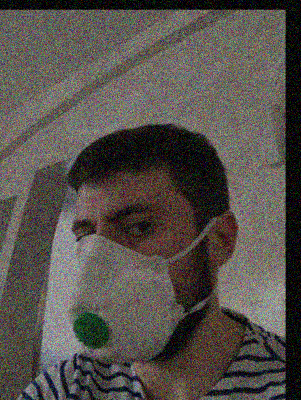with_mask: (64, 189, 196, 365)
